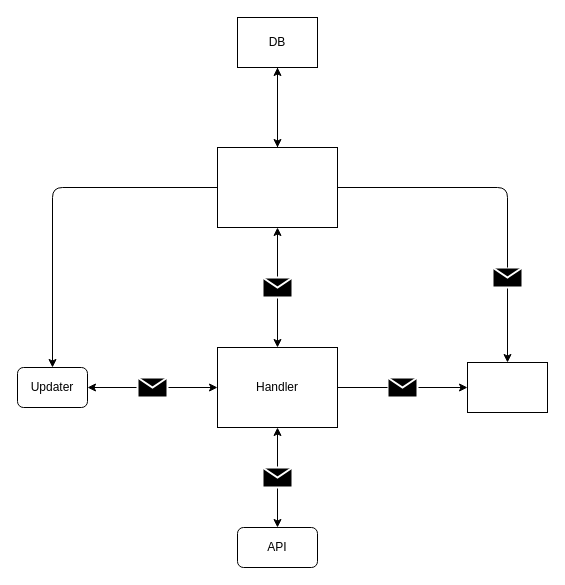
Image size: 565x585. Some labels were removed from this diagram. The centre of each missing label's shape, as x and y in pixels:
"CORE" belongs at point (277, 187).
"LOG" belongs at point (507, 387).
